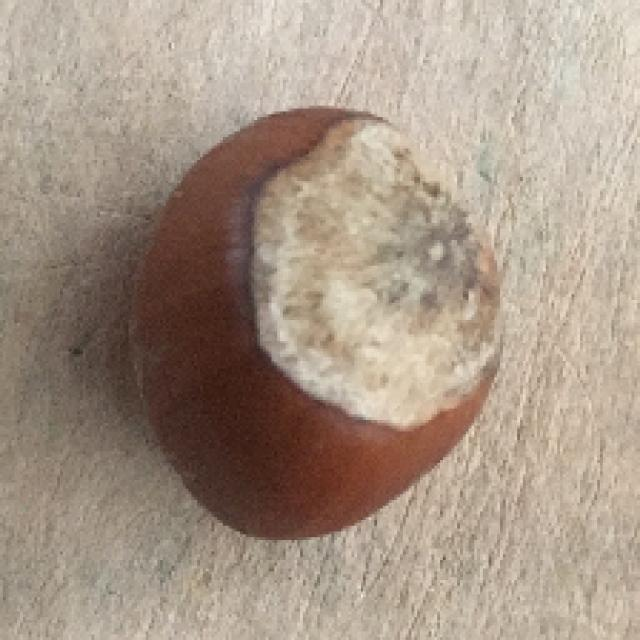qualityHazelnut: (127, 102, 506, 547)
